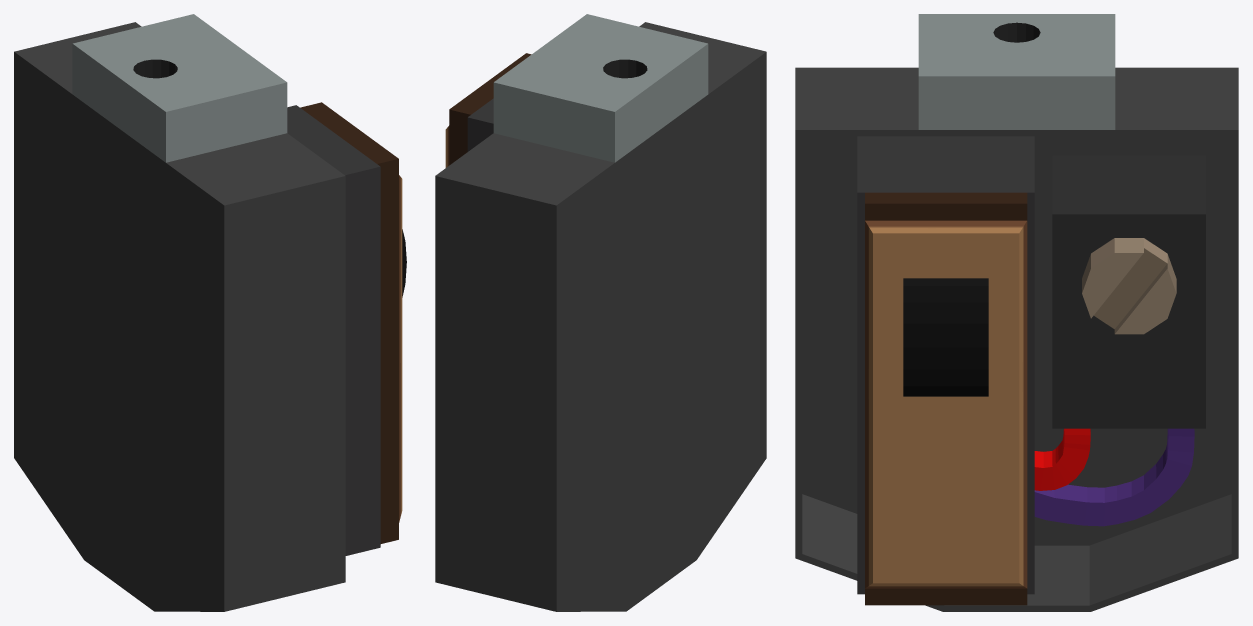
The model's file is CircuitBreakerSmall_BuildState0.fbx.
3 renders of one model, left to right at view 1: azimuth 30°, elevation 25°; view 2: azimuth 150°, elevation 25°; view 3: azimuth 270°, elevation 25°, orthographic. The views are drawn at different scales.
Visible parts, largest first — view 1: CircuitBreakerSmall_BuildState0; view 2: CircuitBreakerSmall_BuildState0; view 3: CircuitBreakerSmall_BuildState0.
Boxes of the visible parts, x1,y1,x2,y2 form: CircuitBreakerSmall_BuildState0: [14, 14, 406, 611]; CircuitBreakerSmall_BuildState0: [435, 14, 766, 611]; CircuitBreakerSmall_BuildState0: [795, 14, 1238, 611].
Bounding box in the file's own units: 0.375 × 0.5 × 0.2408.
